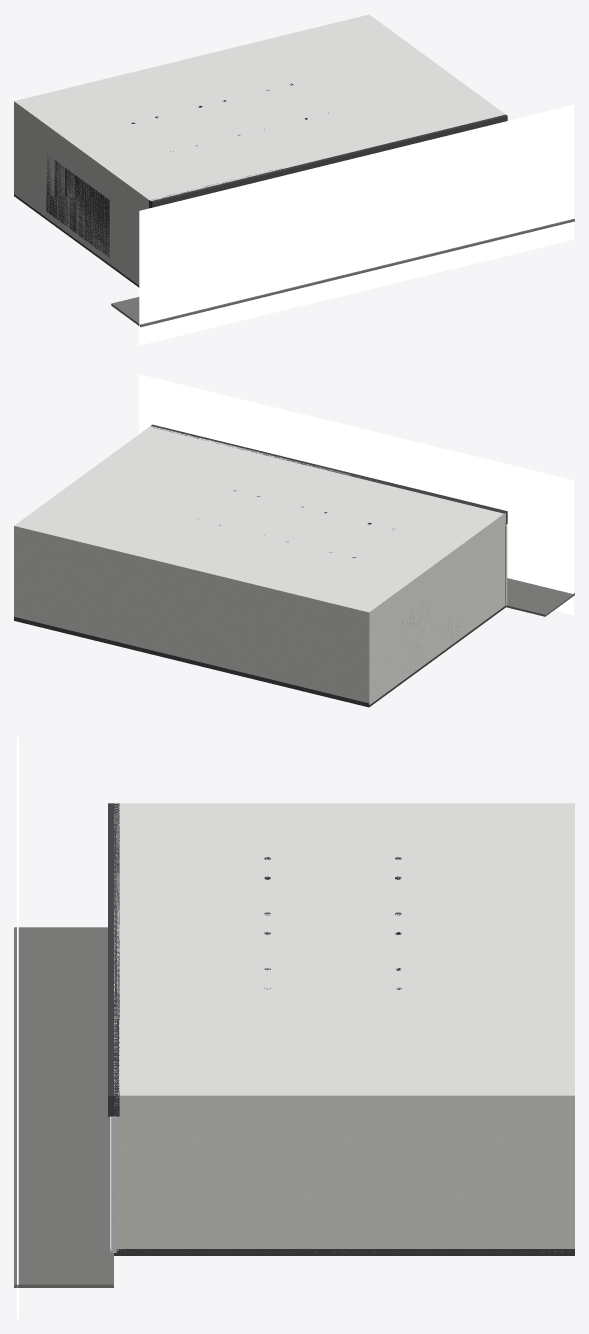
File: room_showroom_ao.glb
The picture shows the model from 3 angles, top to bottom: view 1: azimuth 30°, elevation 25°; view 2: azimuth 150°, elevation 25°; view 3: azimuth 270°, elevation 25°; orthographic projection. The views are drawn at different scales.
Parts seen in each view (by area): view 1: Room; view 2: Room; view 3: Room.
Part boxes in pixels (x1,y1,x2,y2): Room: (14,14,574,345); Room: (14,374,574,707); Room: (14,736,574,1319).
Size of the model in its own units: 22 by 6.5 by 14.6.
29 materials, 2 textured.
